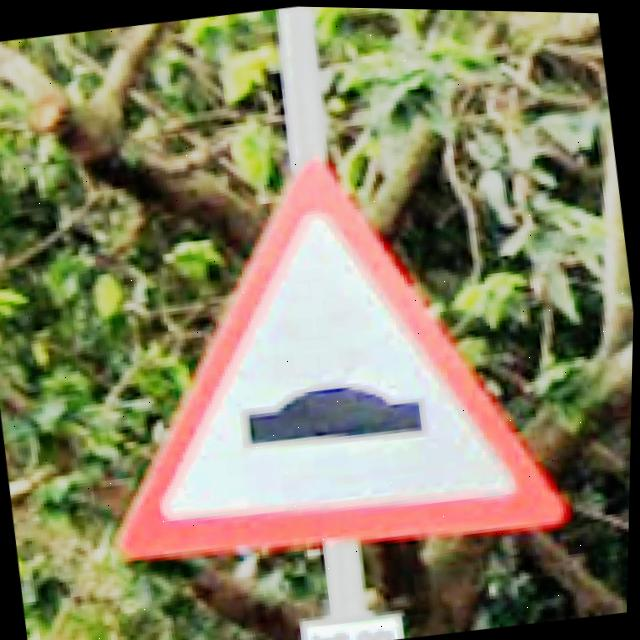hump: (115, 158, 568, 560)
